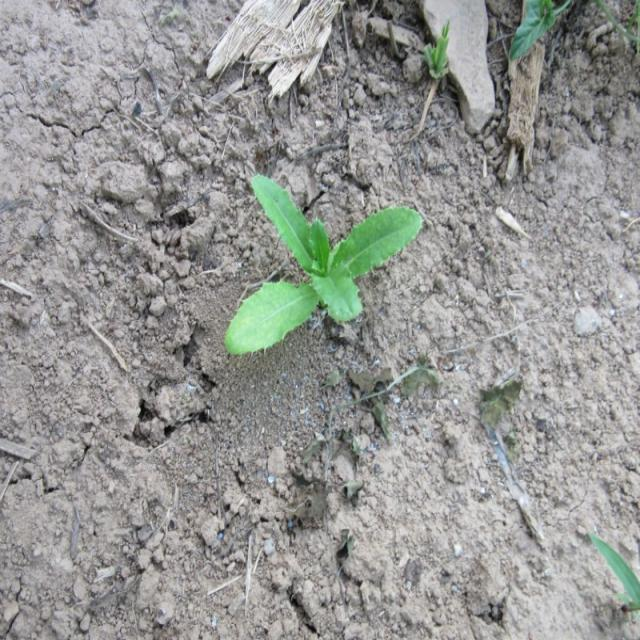cs: (226, 178, 422, 354)
